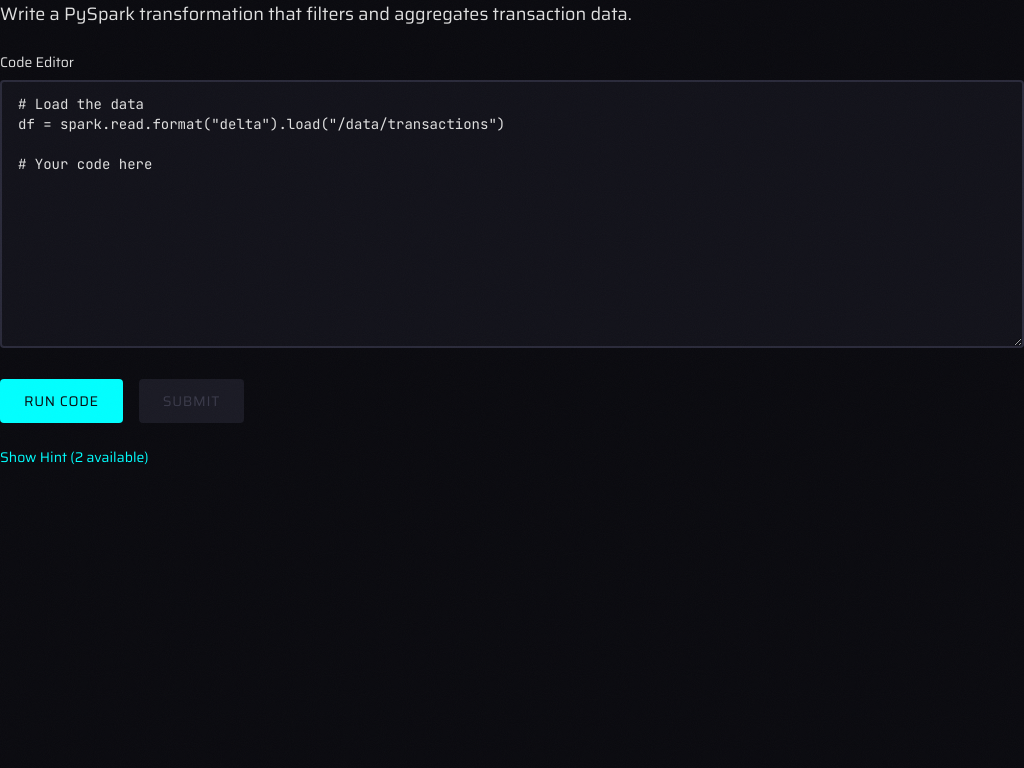
Test case: FreeTextChallenge › Code Validation › shows error when code does not match pattern
Replace the text in the text box labelled "Code Editor" with "print('wrong approach')" at (512, 214), box x1=0 y1=80 x2=1023 y2=348
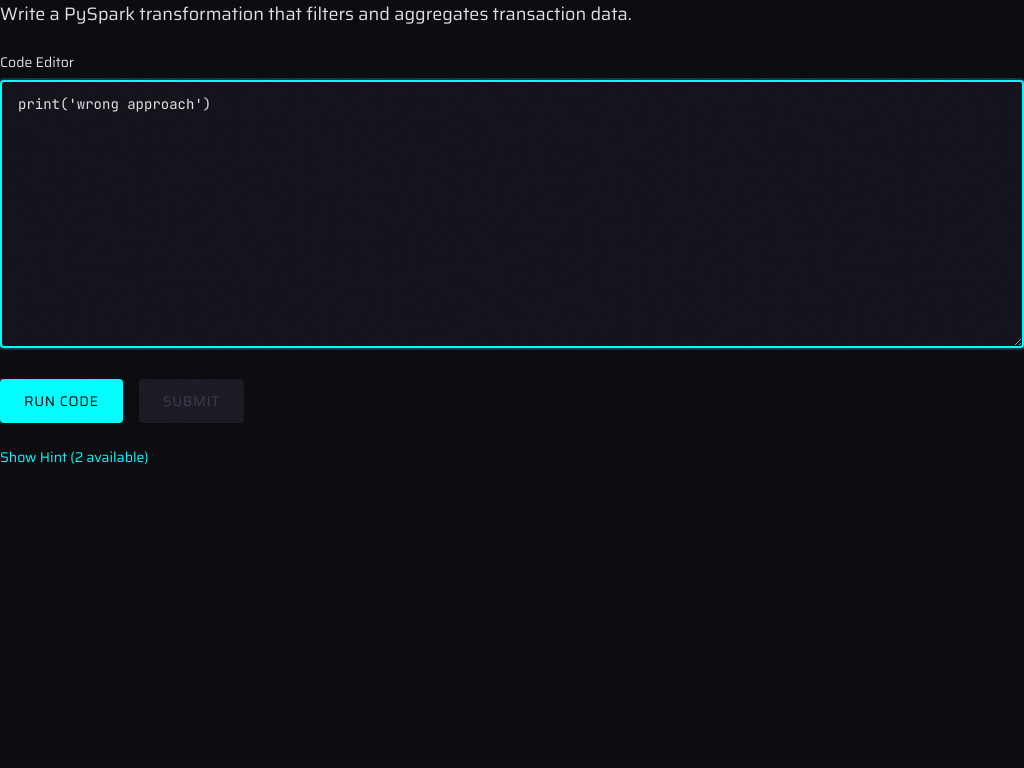
Click the button "Run Code" at (61, 401), box x1=0 y1=379 x2=123 y2=423
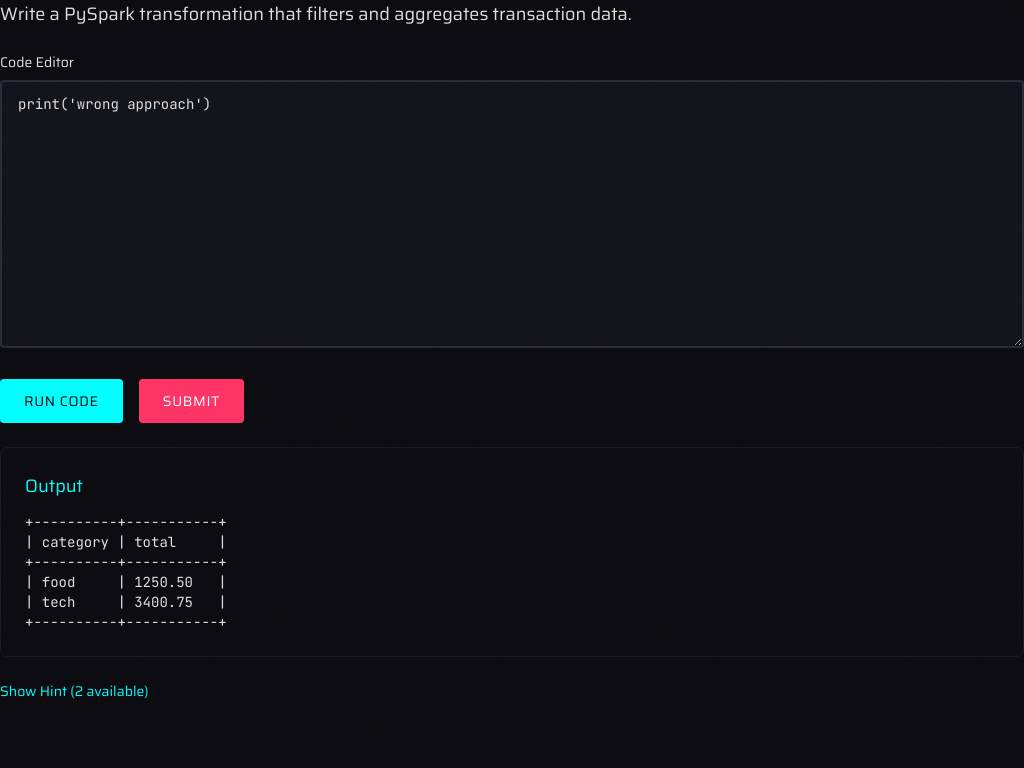
expect the button "Submit" is enabled: met
Click the button "Submit" at (191, 401), box x1=139 y1=379 x2=244 y2=423
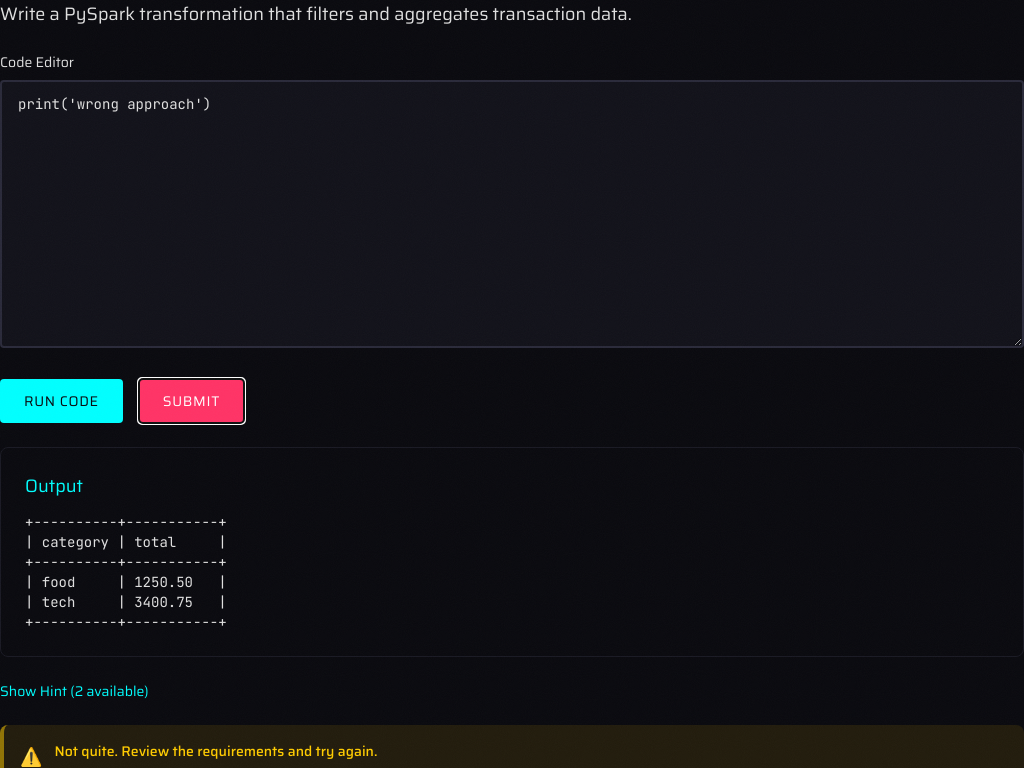
expect the text "Not quite. Review the requirements and try again." is shown: met, box x1=54 y1=740 x2=378 y2=762
